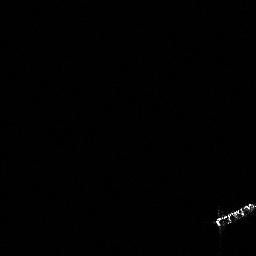ship: (213, 200, 256, 230)
